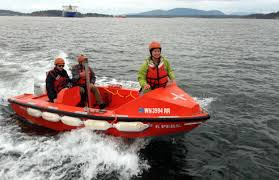boat: (7, 79, 212, 141)
